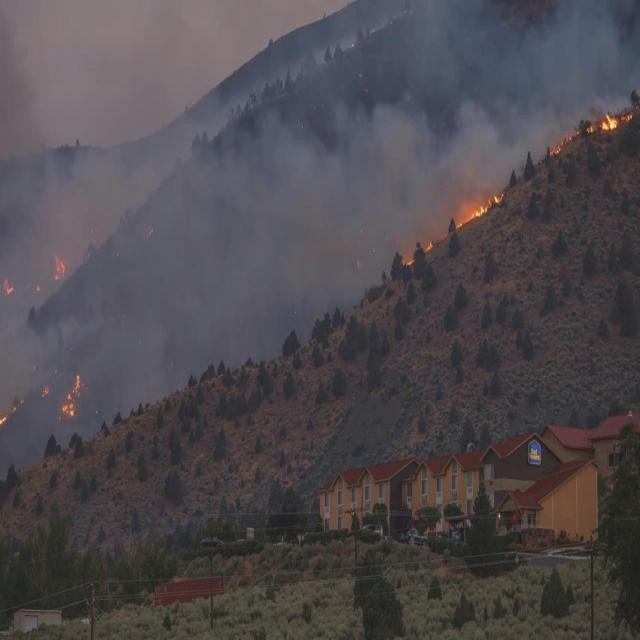Fire: (456, 191, 504, 228), (61, 378, 81, 420), (602, 112, 632, 132), (546, 133, 572, 154), (52, 252, 66, 280), (3, 276, 16, 296), (423, 240, 433, 252), (404, 258, 412, 268), (586, 125, 593, 135)
